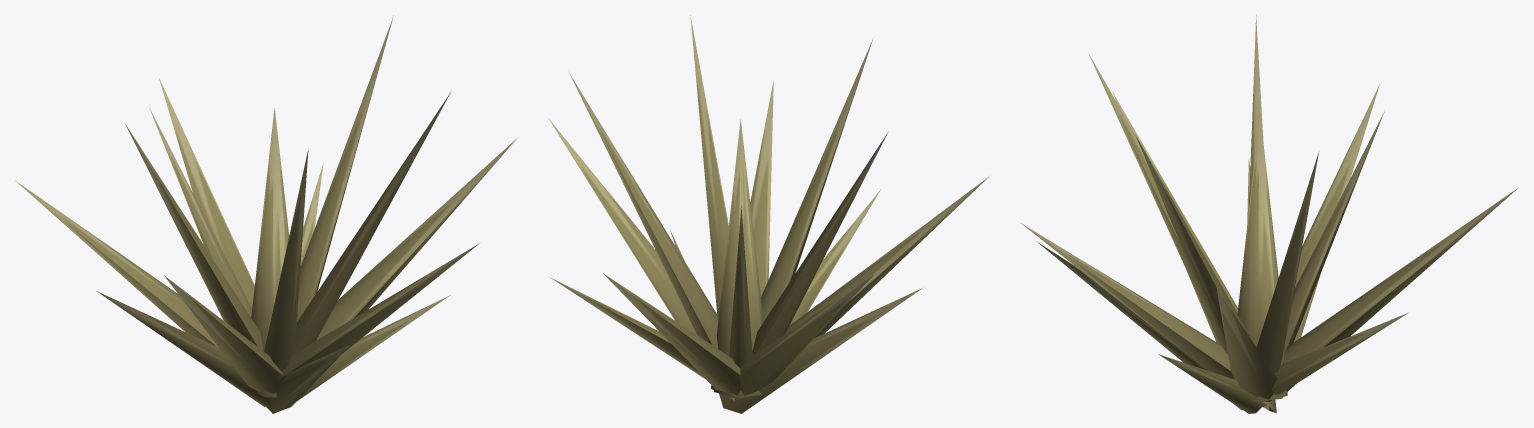
The model's file is DE_Cactus_38.fbx.
The picture shows the model from 3 angles, left to right: view 1: azimuth 30°, elevation 25°; view 2: azimuth 150°, elevation 25°; view 3: azimuth 270°, elevation 25°; orthographic projection. The views are drawn at different scales.
Parts seen in each view (by area): view 1: DE_Cactus_38; view 2: DE_Cactus_38; view 3: DE_Cactus_38.
Part boxes in pixels (x1,y1,x2,y2): DE_Cactus_38: (15,15,517,413); DE_Cactus_38: (548,15,989,413); DE_Cactus_38: (1021,14,1517,413).
Bounding box in the file's own units: 2.2 × 1.67 × 2.25.
